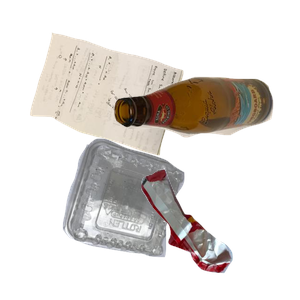glass: (111, 74, 300, 204)
paper: (27, 30, 203, 178)
plastic: (60, 136, 237, 300)
trash: (139, 167, 300, 300)
